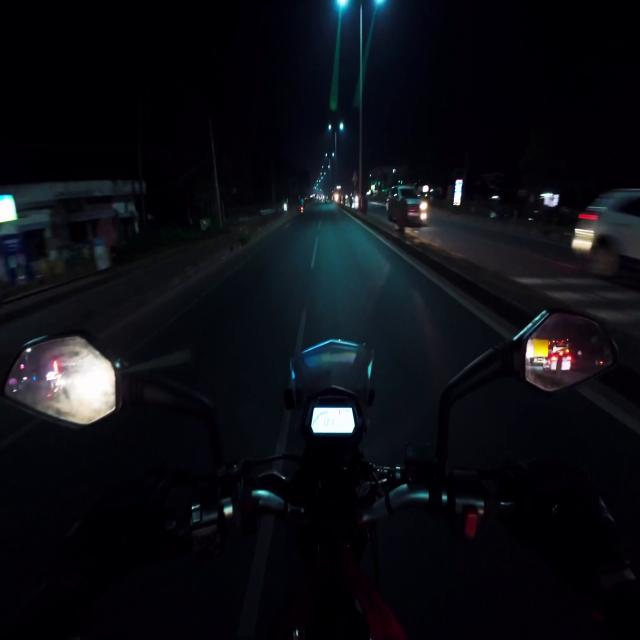car: (572, 190, 639, 275), (387, 185, 427, 227)
motorcycle: (0, 300, 640, 640)
